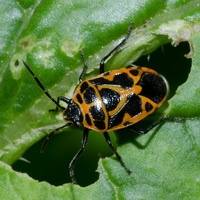insect: (12, 127, 81, 184), (134, 41, 191, 98), (75, 132, 111, 185)
